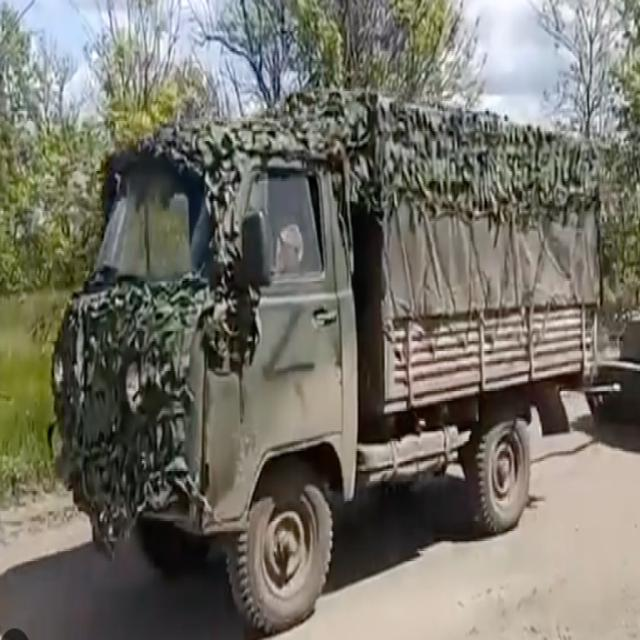CAR: (53, 75, 594, 639)
